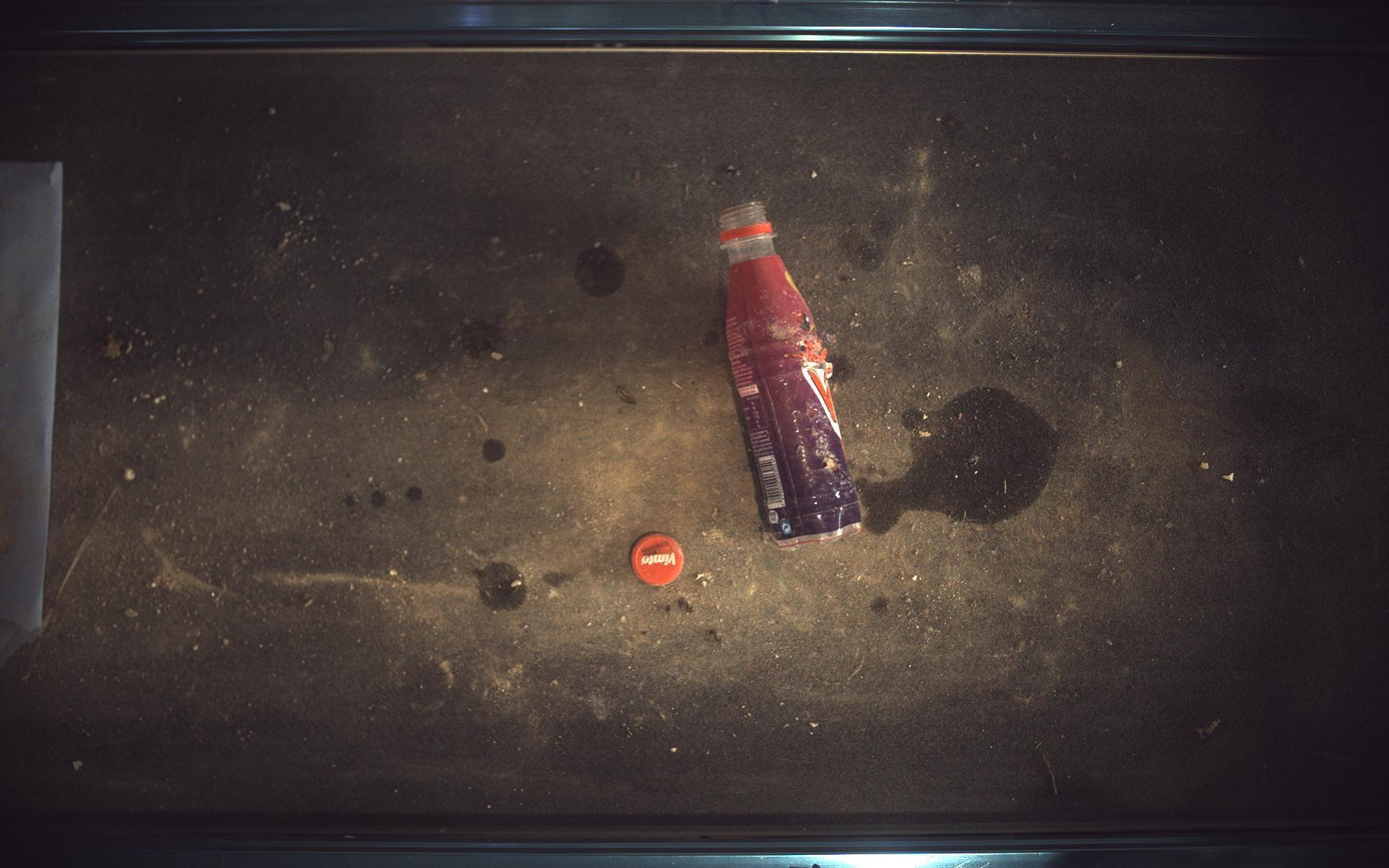general_w: (721, 200, 864, 549), (632, 533, 685, 587)
